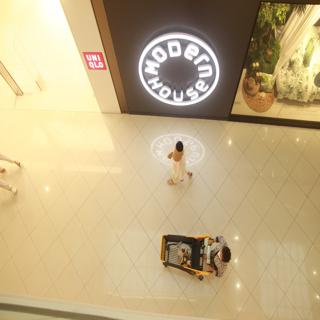person: (195, 227, 239, 285), (168, 135, 194, 191)
